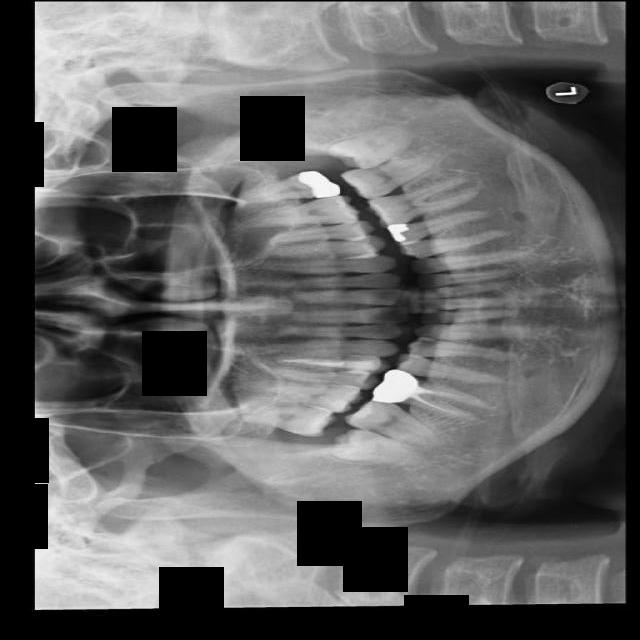52: (369, 362, 423, 415), (290, 160, 344, 207), (386, 215, 422, 250), (339, 353, 391, 376), (365, 425, 393, 441), (422, 339, 439, 345)
73: (401, 374, 499, 428), (273, 351, 345, 371), (570, 26, 578, 30)
BioHorizons Implant: (234, 168, 340, 205)
Biomet 3i Implant: (325, 117, 417, 181)
Blue Sky Bio Implant: (339, 149, 443, 206)
Caries: (236, 396, 339, 439)
Implant: (342, 390, 450, 451)
Keystone Dental Implant: (330, 425, 433, 471)
